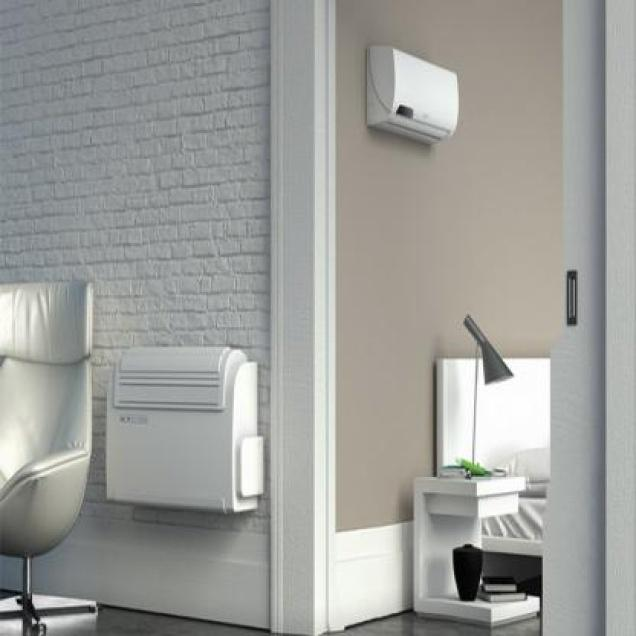AC: (364, 43, 460, 144)
